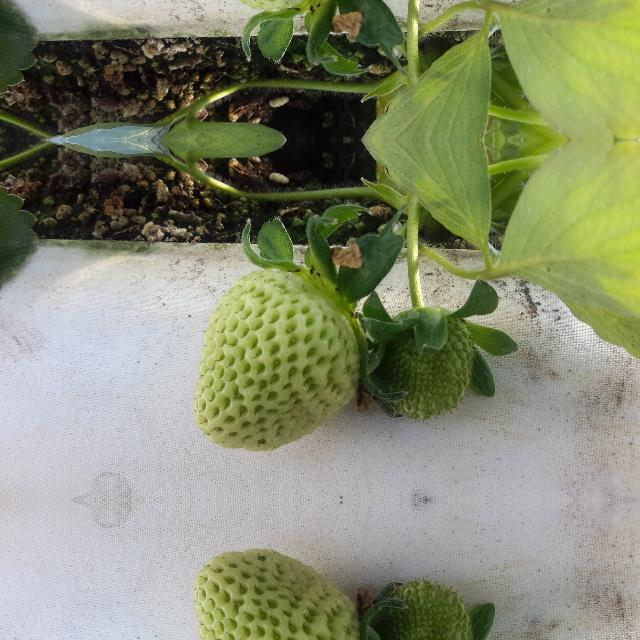Health_25: (194, 268, 358, 450), (193, 550, 358, 640), (382, 306, 472, 420), (381, 580, 472, 640)
